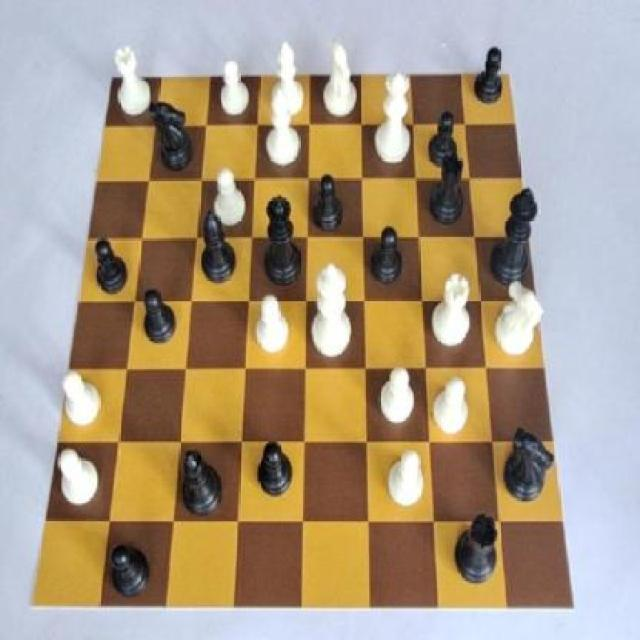bishop: (174, 443, 229, 528), (195, 210, 242, 298)
black-bishop: (488, 178, 543, 288)
black-king: (497, 420, 561, 506), (150, 94, 198, 183)
black-knight: (103, 531, 161, 607), (248, 436, 303, 506), (88, 226, 132, 307), (466, 38, 512, 114), (309, 163, 350, 245), (368, 218, 409, 294), (137, 283, 182, 352), (421, 103, 464, 173)
black-pawn: (257, 191, 311, 294)
black-queen: (451, 508, 503, 594), (426, 148, 474, 232)
black-rook: (260, 80, 308, 171), (264, 32, 310, 123)
white-bishop: (304, 254, 358, 368)
white-king: (489, 274, 548, 361), (317, 32, 363, 122)
white-knight: (54, 438, 111, 507), (209, 52, 258, 130), (429, 366, 475, 447), (248, 286, 294, 360), (383, 438, 425, 514), (377, 360, 419, 434), (58, 365, 105, 430), (211, 163, 253, 232)
white-pawn: (372, 68, 413, 172)
white-queen: (424, 266, 474, 360), (108, 40, 155, 125)
